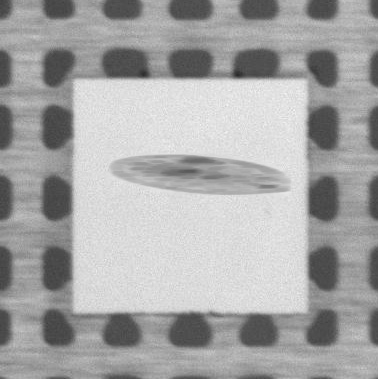DIE_INK: (105, 149, 294, 200)
